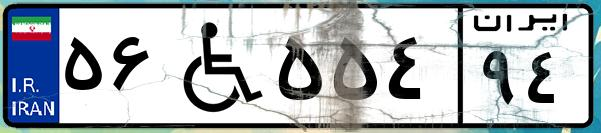4: (385, 28, 445, 110), (525, 38, 570, 115)
5: (270, 28, 330, 110), (330, 28, 385, 110), (57, 26, 110, 100)
6: (110, 28, 158, 98)
9: (475, 38, 525, 113)
ژ (معلولین و جانبازان): (158, 12, 270, 120)
